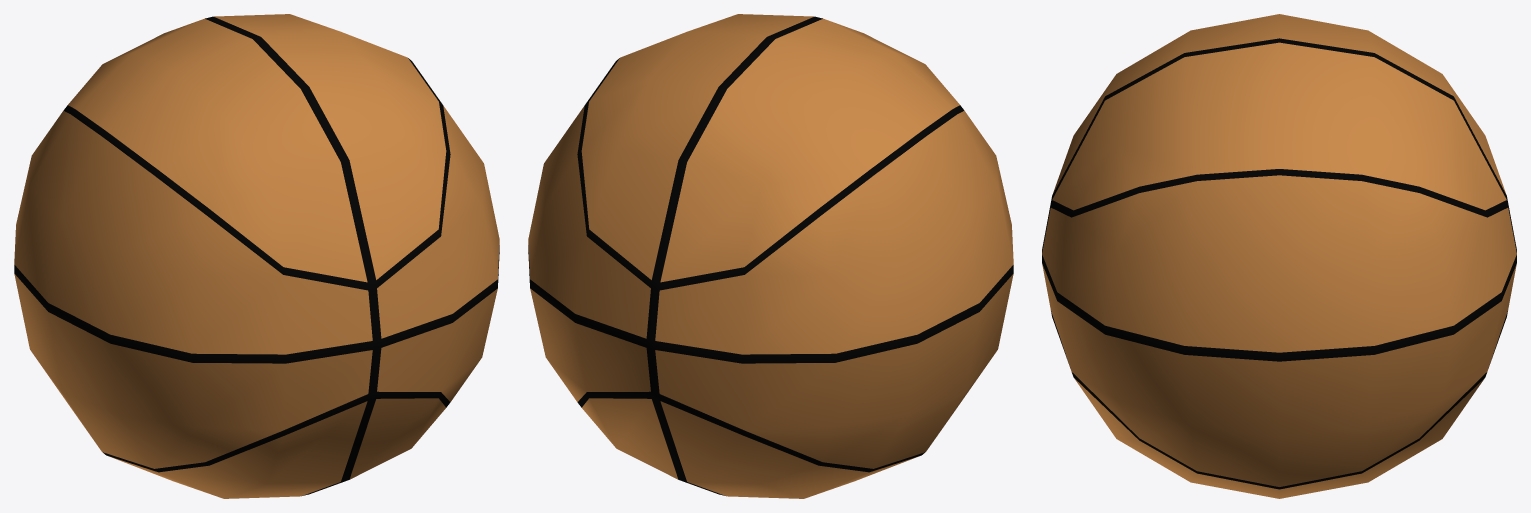
File: basket ball.fbx
The picture shows the model from 3 angles, left to right: view 1: azimuth 30°, elevation 25°; view 2: azimuth 150°, elevation 25°; view 3: azimuth 270°, elevation 25°; orthographic projection.
Visible parts, largest first — view 1: pCube27; view 2: pCube27; view 3: pCube27.
Boxes of the visible parts, bbox=[...] form: pCube27: bbox=[14, 14, 499, 498]; pCube27: bbox=[528, 14, 1013, 498]; pCube27: bbox=[1042, 14, 1516, 498].
Size of the model in its own units: 2.04 by 2.04 by 2.03.
